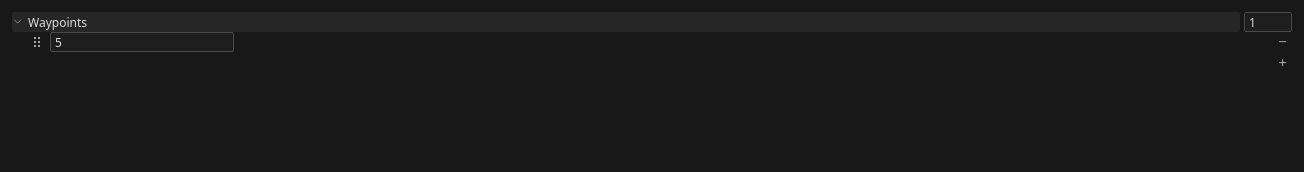
it: ListEditor › shows an empty list and focuses the add button after the last removal
What coordinates should you click on to do the following:
click the button named "Remove element 0"
I would click on:
 (1283, 42)
Its box is [1274,33,1292,51].
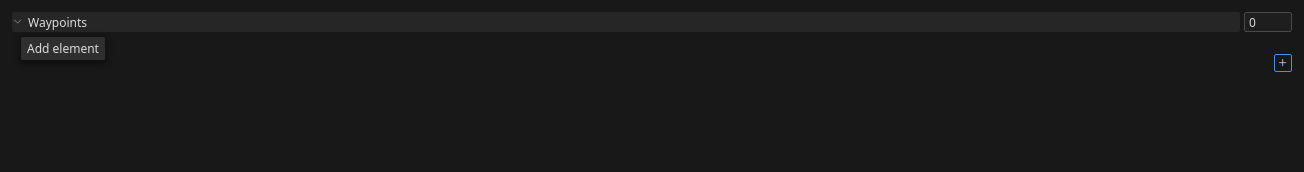
Expected: the text "List is empty" is shown, [28,33,98,50]
